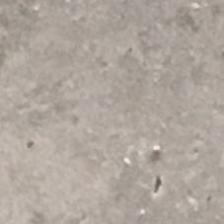Non_Crack: (21, 35, 224, 196)
